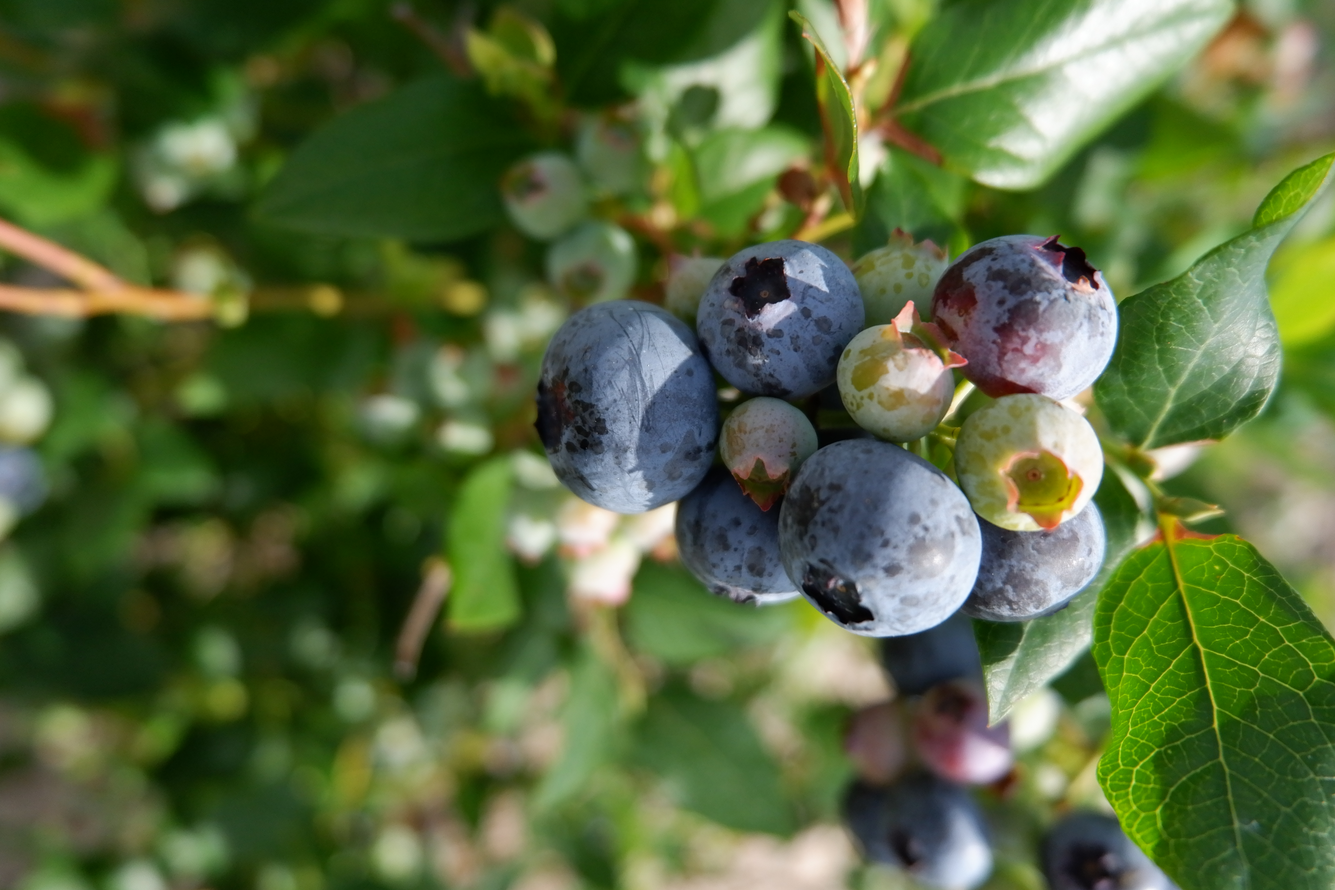Immature: (958, 400, 1099, 526), (842, 316, 953, 441), (912, 684, 1014, 782), (724, 400, 814, 501), (854, 229, 944, 323), (549, 222, 637, 303), (501, 155, 586, 235), (846, 704, 913, 784), (656, 254, 718, 326)
Mature: (782, 440, 977, 635), (536, 305, 720, 508), (935, 239, 1114, 396), (701, 242, 864, 393), (679, 462, 795, 603), (970, 503, 1104, 619), (849, 773, 989, 883), (1039, 808, 1174, 889), (879, 613, 979, 696)
